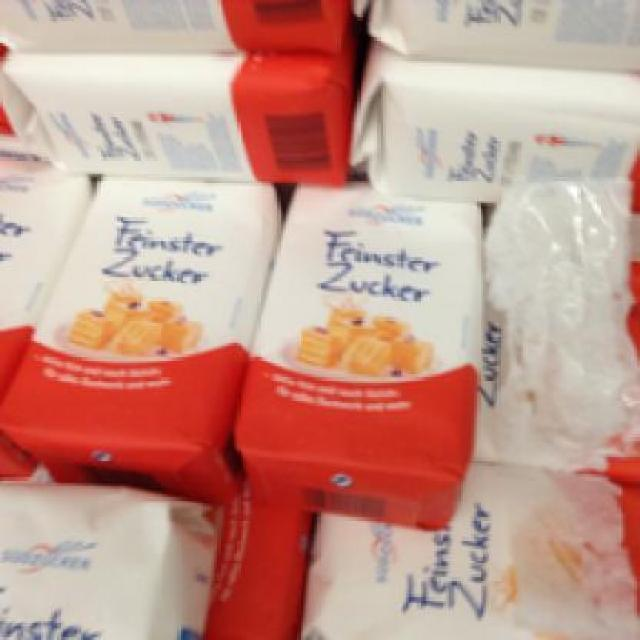Sugar: (231, 175, 480, 534), (0, 170, 272, 489), (302, 457, 638, 634), (0, 47, 355, 189), (340, 55, 637, 192)
